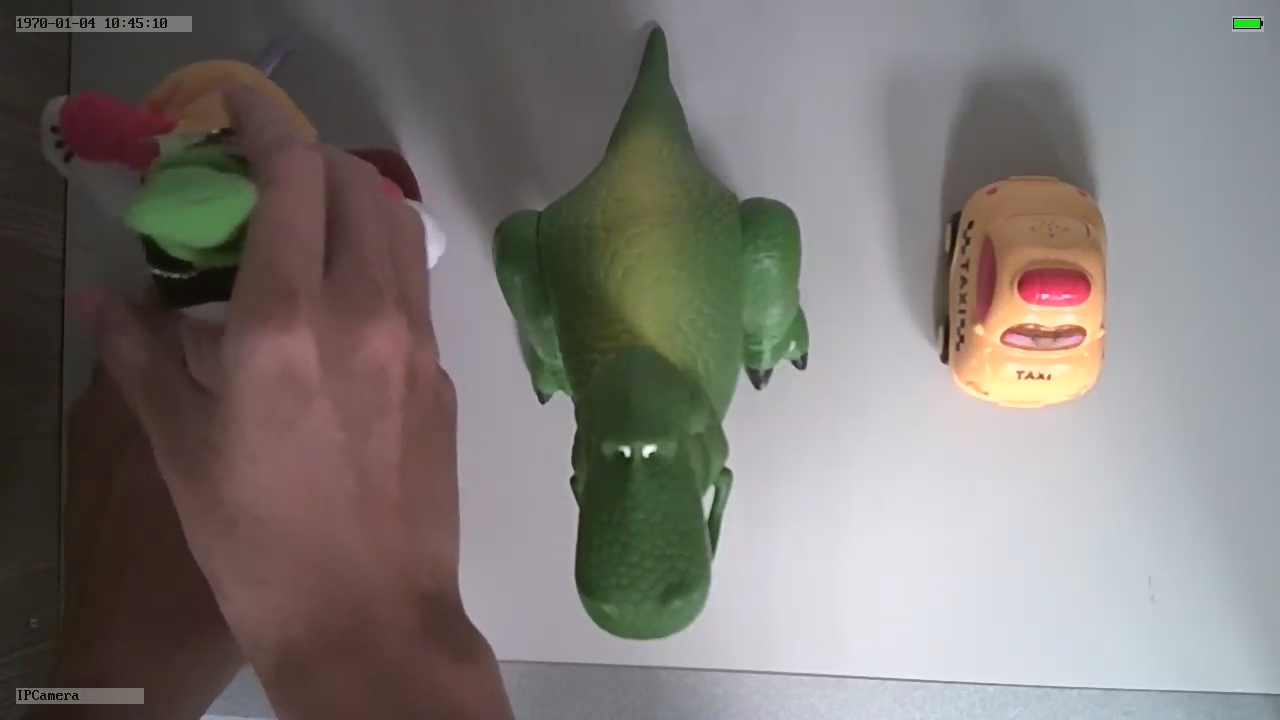car: (934, 170, 1112, 412)
rex: (491, 98, 815, 644)
